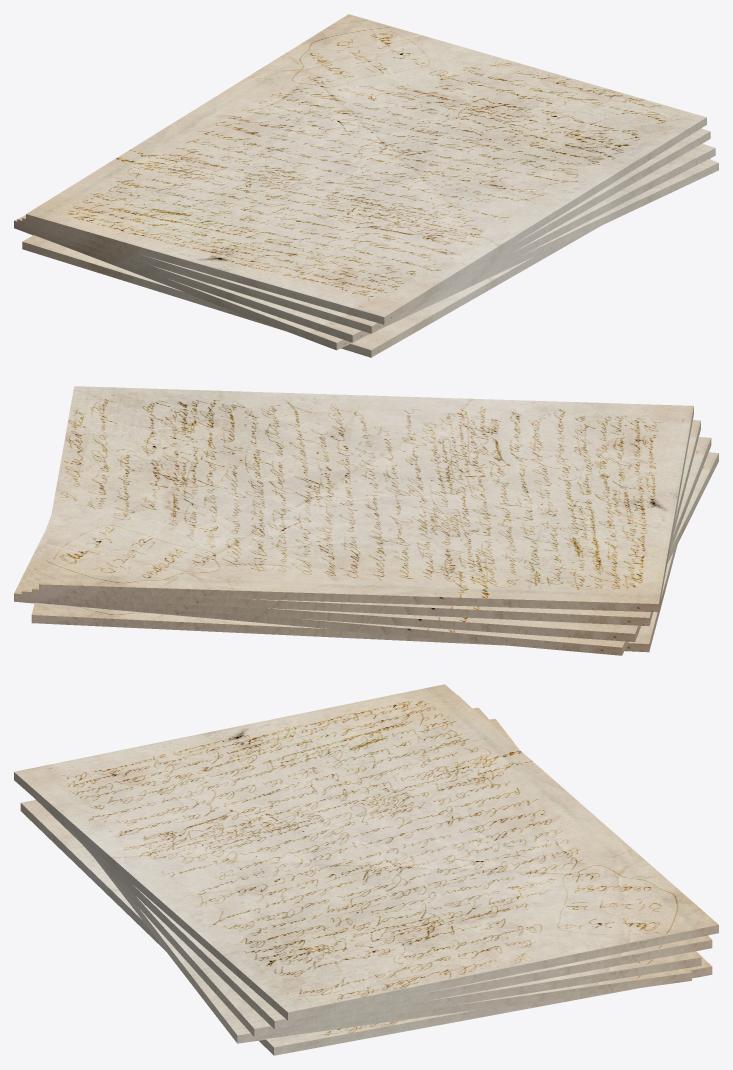
The model's file is Paperstack.fbx.
3 views of the same model, one above another, from view 1: azimuth 30°, elevation 25°; view 2: azimuth 150°, elevation 25°; view 3: azimuth 270°, elevation 25° (orthographic). The views are drawn at different scales.
Parts seen in each view (by area): view 1: paperstack; view 2: paperstack; view 3: paperstack.
Part boxes in pixels (x1,y1,x2,y2): paperstack: (14,14,718,357); paperstack: (14,386,718,655); paperstack: (14,684,718,1055).
Size of the model in its own units: 0.3217 by 0.0204 by 0.2919.
1 material, 1 textured.
